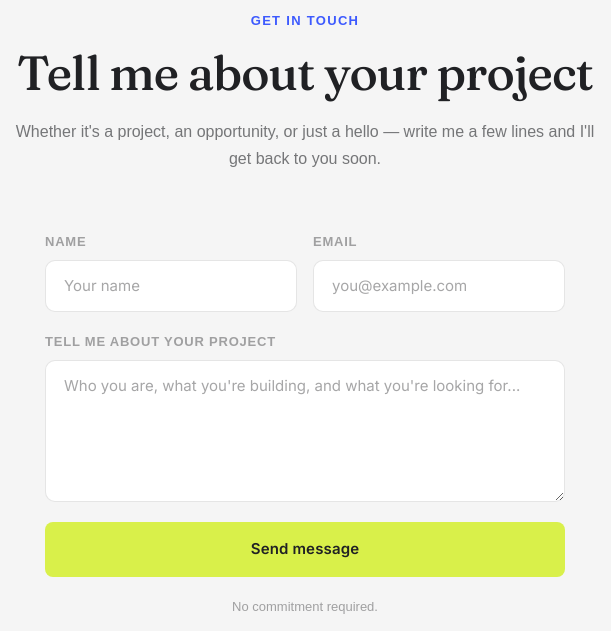
Contact form › shows an error and keeps the form when the request fails
In the field with placeholder "Your name": (171, 286) [45,260,297,312], type "Ana"
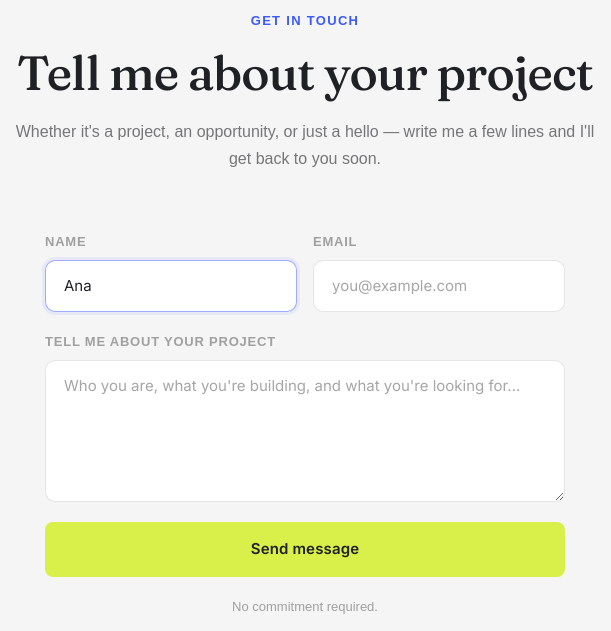
In the field with placeholder "you@example.com": (439, 286) [313,260,565,312], type "ana@example.com"
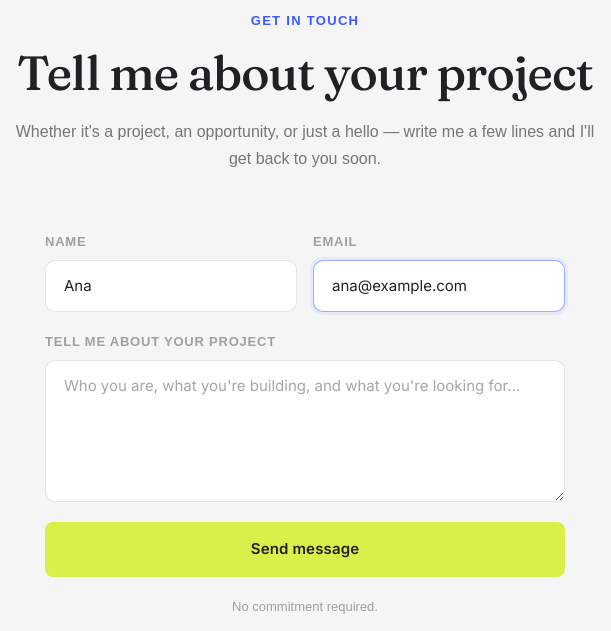
In the text box with placeholder "Who you are": (305, 431) [45,360,565,502], type "Hi"
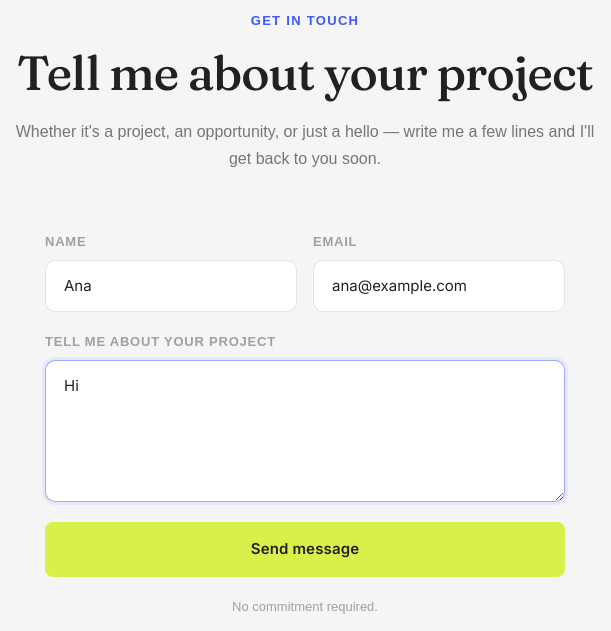
Click the button "Send message": (305, 549) [45,522,565,577]
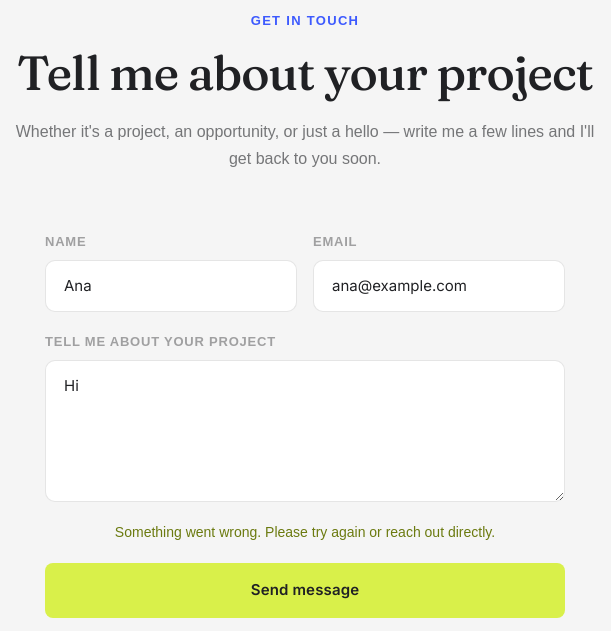
Check: the button "Send message" is enabled, box [45,563,565,618]
Check: the text "Something went wrong" is shown, box [115,524,495,540]
